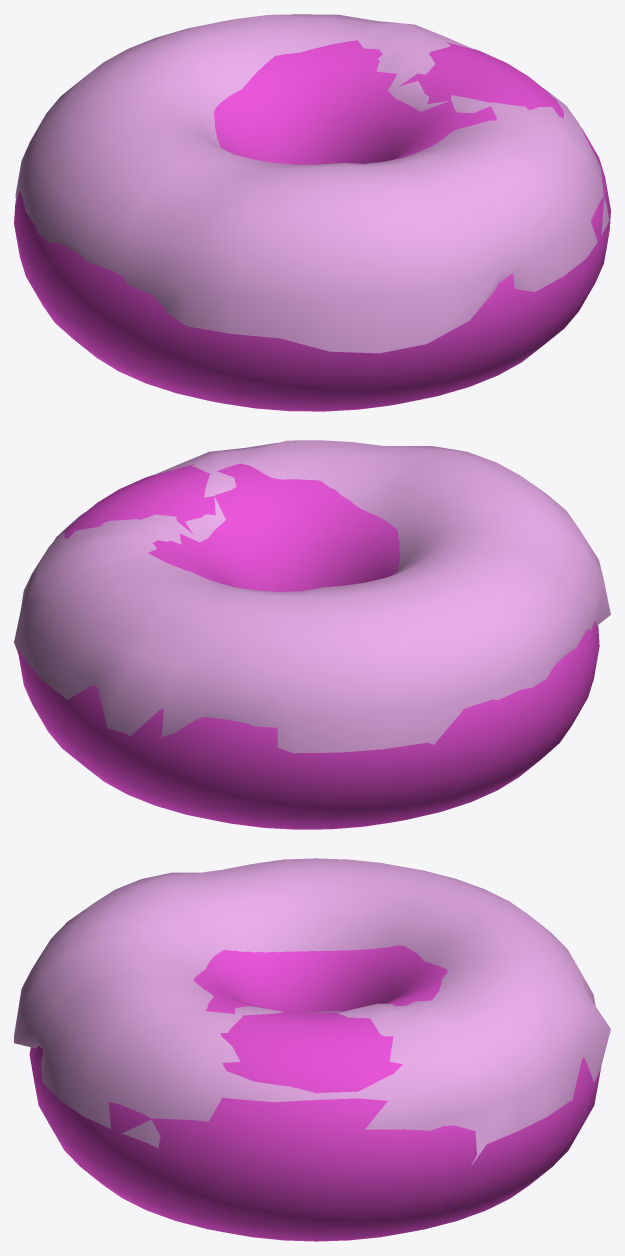
The model's file is donut1blend.glb.
3 renders of one model, top to bottom at view 1: azimuth 30°, elevation 25°; view 2: azimuth 150°, elevation 25°; view 3: azimuth 270°, elevation 25°, orthographic. The views are drawn at different scales.
Visible parts, largest first — view 1: Torus.002, Torus.001; view 2: Torus.002, Torus.001; view 3: Torus.002, Torus.001.
Boxes of the visible parts, box(x1,y1,x2,y2) form: Torus.002: box(15, 14, 609, 353); Torus.001: box(14, 40, 610, 411); Torus.002: box(14, 440, 610, 753); Torus.001: box(18, 463, 599, 829); Torus.002: box(14, 858, 610, 1165); Torus.001: box(29, 945, 600, 1241).
Bounding box in the file's own units: 3.04 × 1.31 × 3.16.
